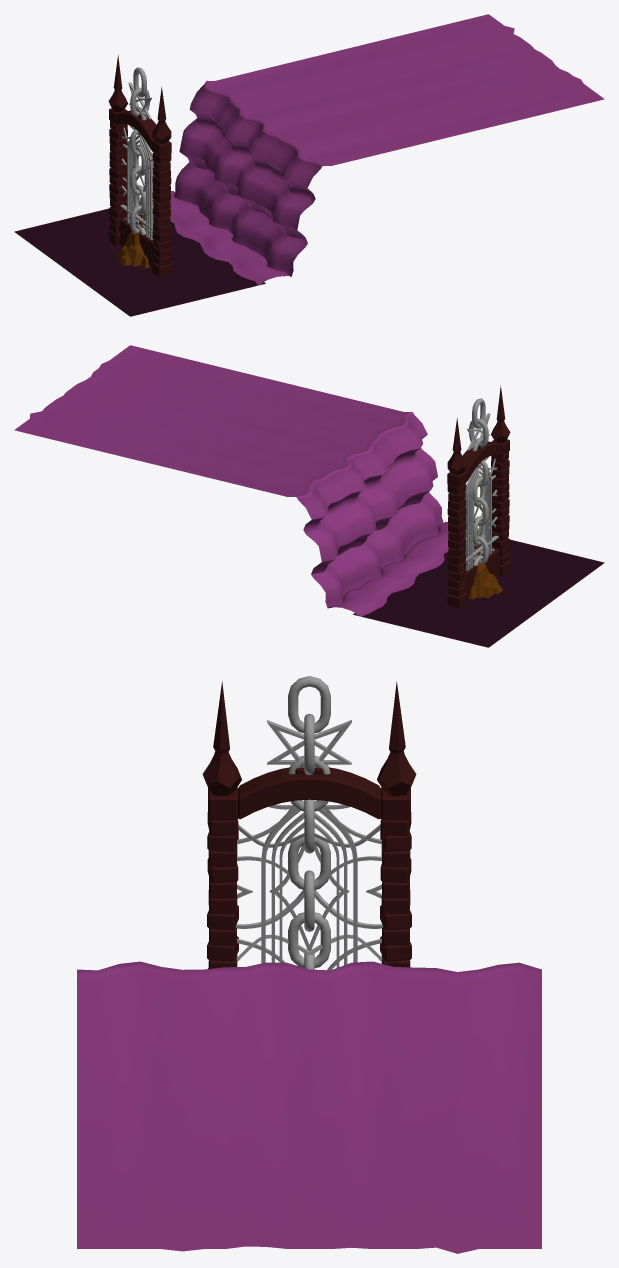
The model's file is Hell_2.FBX.
The picture shows the model from 3 angles, top to bottom: view 1: azimuth 30°, elevation 25°; view 2: azimuth 150°, elevation 25°; view 3: azimuth 270°, elevation 25°; orthographic projection. The views are drawn at different scales.
Visible parts, largest first — view 1: Ground, Lava, Cancel, Chain, Rock_2; view 2: Ground, Lava, Cancel, Chain, Rock_2; view 3: Ground, Cancel, Chain.
Part boxes in pixels (x1,y1,x2,y2): Ground: (153,14,604,285); Lava: (14,204,265,316); Cancel: (108,54,171,277); Chain: (130,67,149,234); Rock_2: (116,221,150,268); Ground: (14,345,465,616); Lava: (353,535,604,647); Cancel: (447,385,510,608); Chain: (469,398,488,565); Rock_2: (468,552,502,599); Ground: (77,961,541,1253); Cancel: (202,681,416,970); Chain: (288,676,330,969).
Size of the model in its own units: 667 by 266 by 280.
